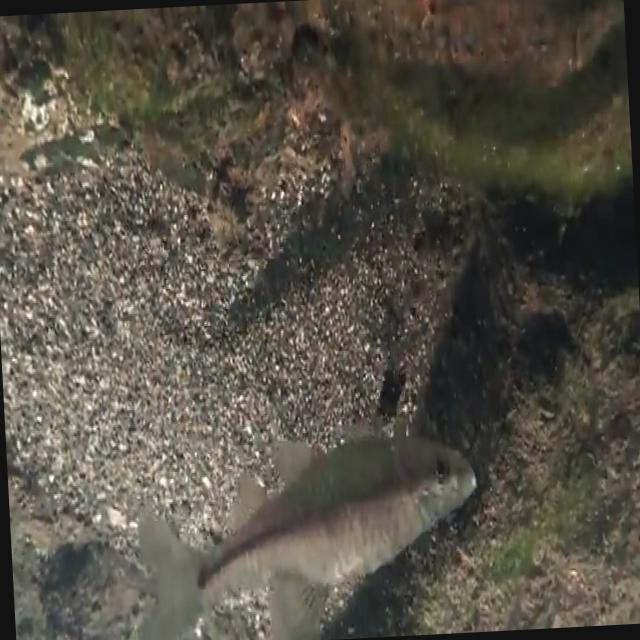Cakil Baligi: (125, 418, 486, 640)
